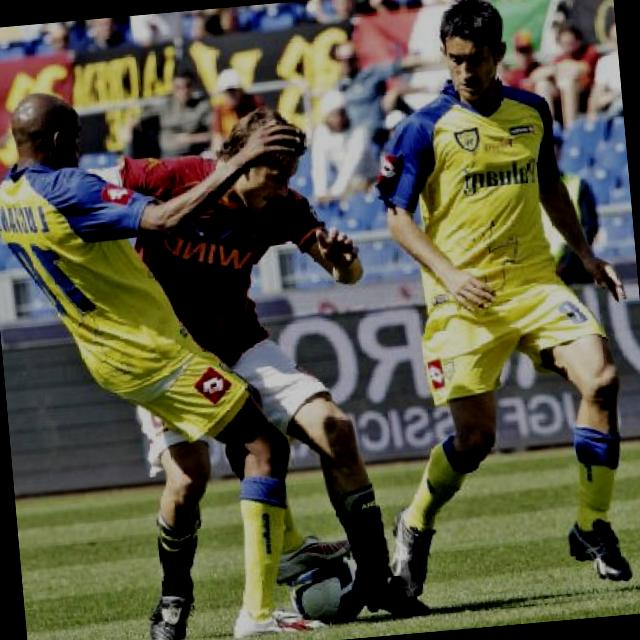Person: (383, 0, 586, 567)
